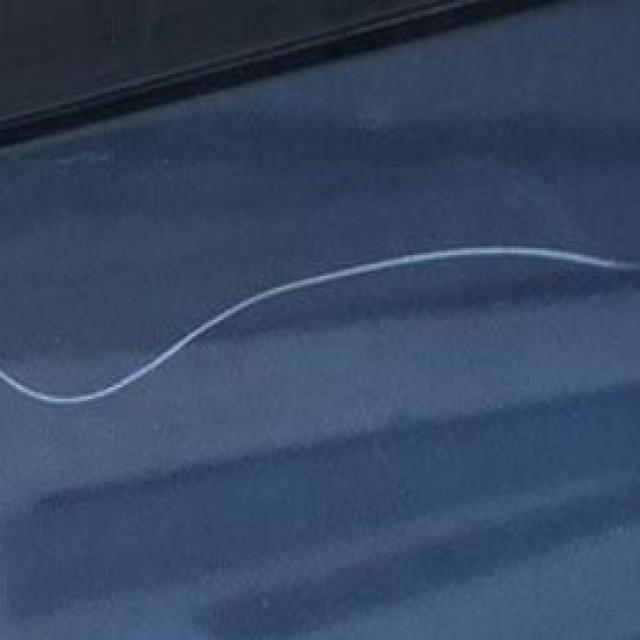scratch: (0, 237, 629, 412)
